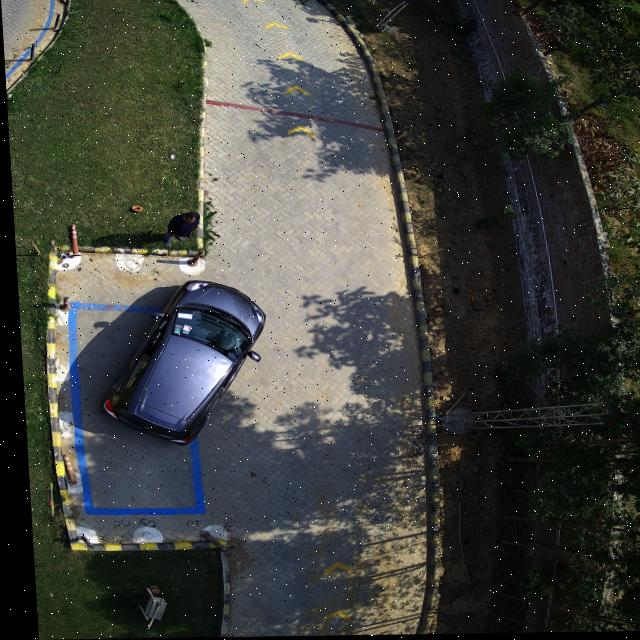car: (96, 282, 260, 446)
